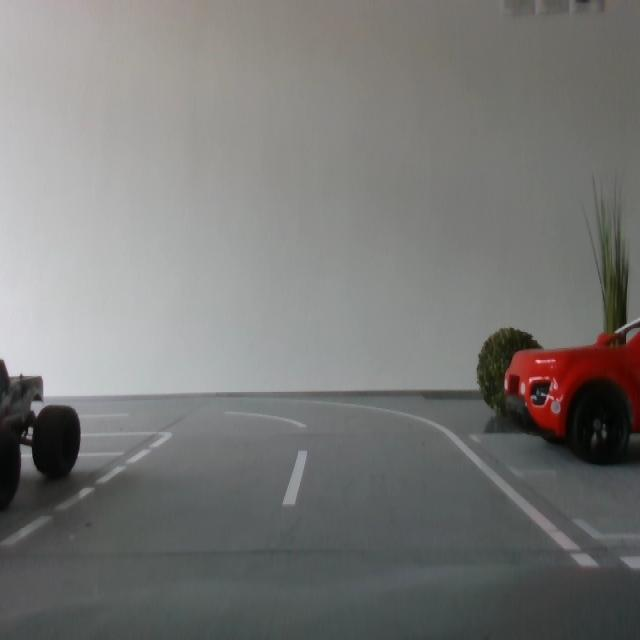car: (503, 318, 640, 465), (1, 359, 81, 511)
potted plant: (583, 173, 632, 409), (476, 327, 548, 424)
